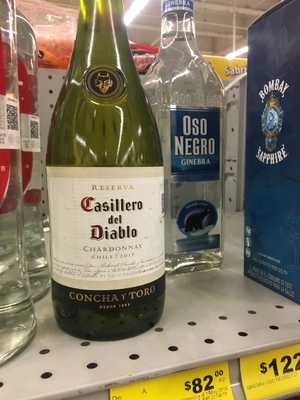casillero del diablo chardonnay: (41, 25, 180, 340)
